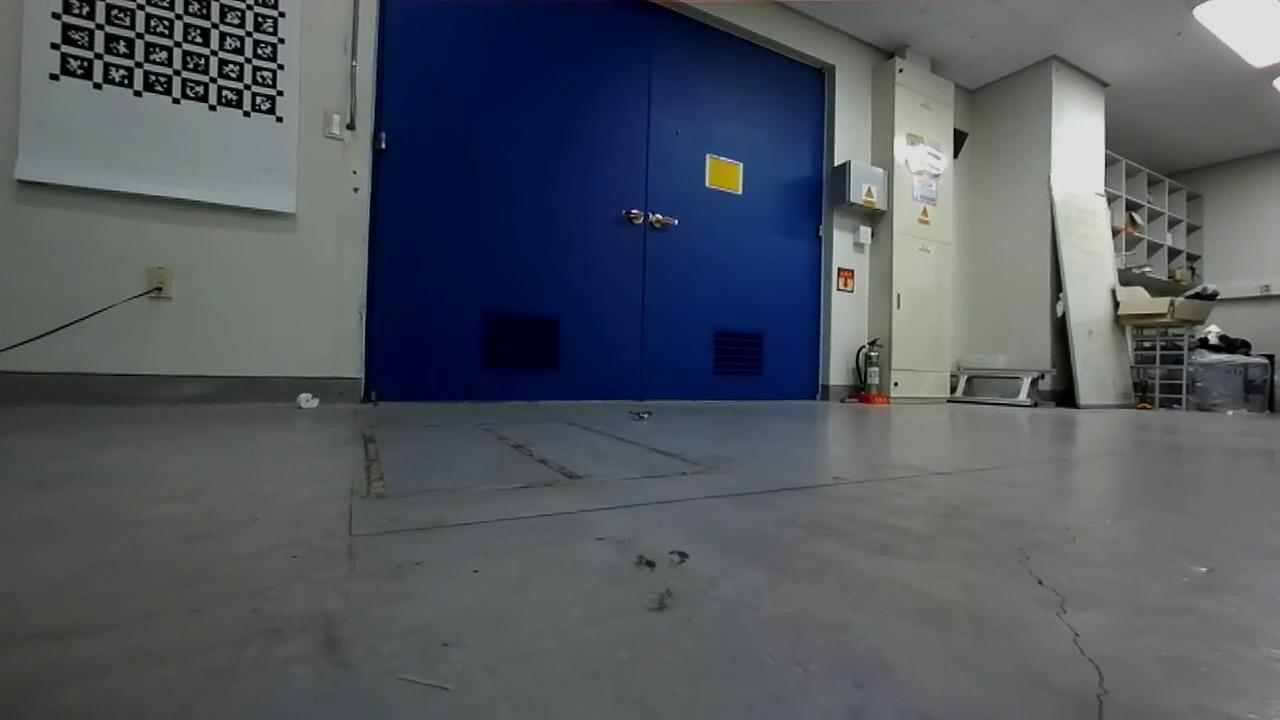crazyflie: (614, 401, 666, 428)
